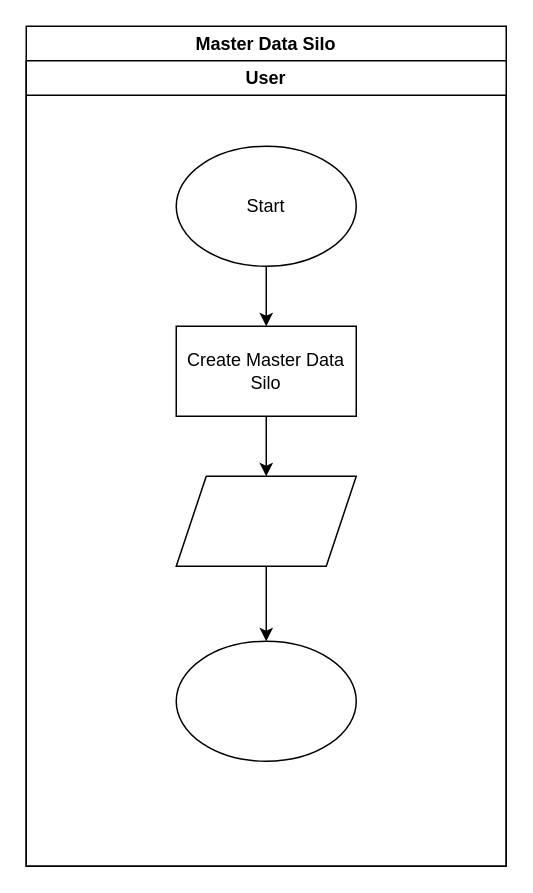
This 533x893 diagram has some shape labels left out. Here are the shapes that lost their labels. From the top down, the centre of each, then its label:
At [265,520]: "Master Data Barang".
At [265,700]: "End".
